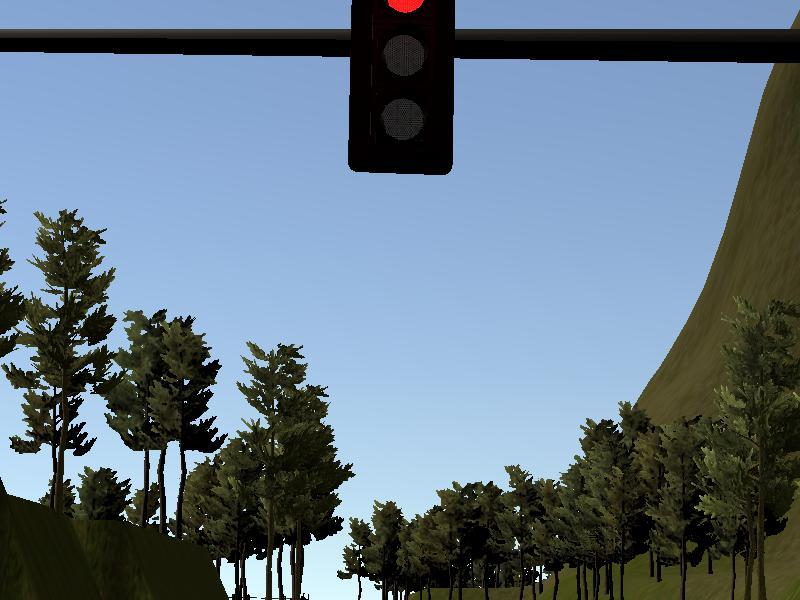Red: (350, 1, 452, 173)
